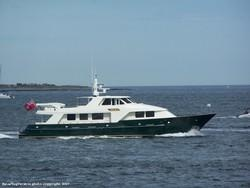yacht: (18, 65, 216, 142)
